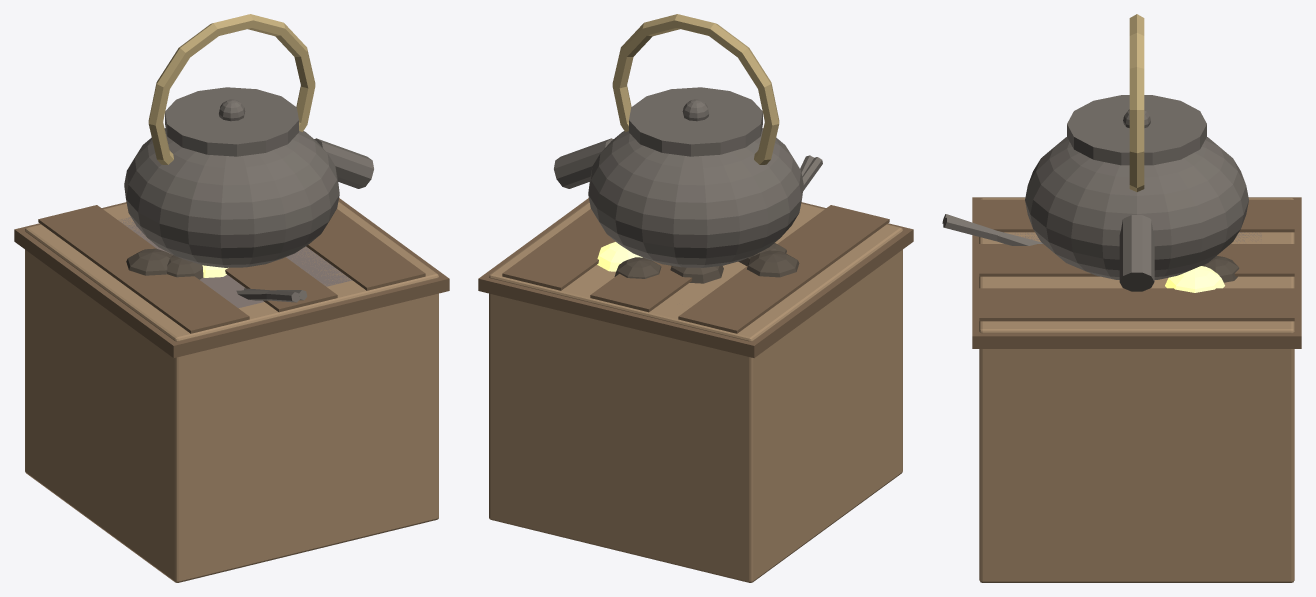
Rendered from charcoal_brazier.glb.
3 views of the same model, side by side, from view 1: azimuth 30°, elevation 25°; view 2: azimuth 150°, elevation 25°; view 3: azimuth 270°, elevation 25° (orthographic). The views are drawn at different scales.
Visible parts, largest first — view 1: charcoal_brazier; view 2: charcoal_brazier; view 3: charcoal_brazier.
Part boxes in pixels (x1,y1,x2,y2): charcoal_brazier: (14, 14, 449, 582); charcoal_brazier: (478, 14, 913, 582); charcoal_brazier: (942, 14, 1301, 582).
Size of the model in its own units: 0.4702 by 0.7784 by 0.5129.
